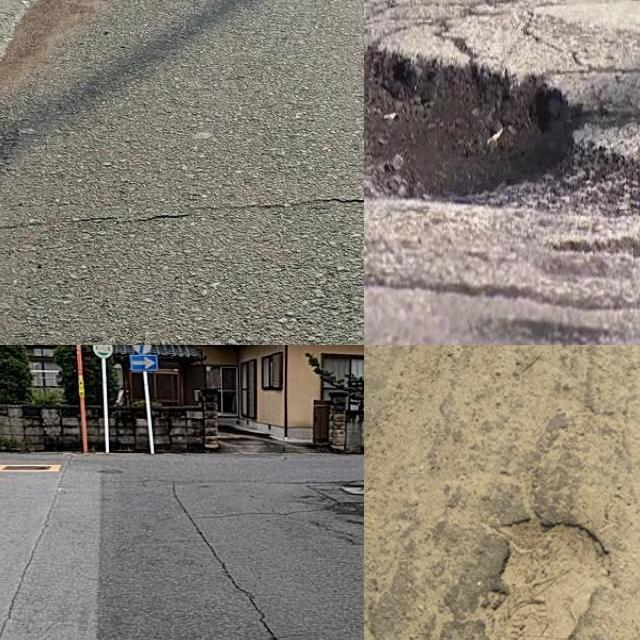Lubang: (364, 49, 588, 202), (478, 518, 613, 640)
Melintang: (0, 179, 364, 250)
Memanjang: (149, 479, 294, 640)
